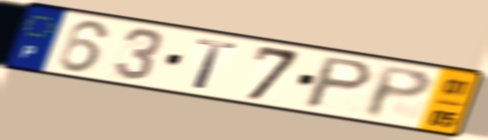3: (112, 26, 167, 83)
6: (56, 18, 113, 75)
7: (247, 43, 302, 103)
P: (300, 54, 377, 111), (363, 63, 436, 121)
T: (191, 37, 241, 92)
